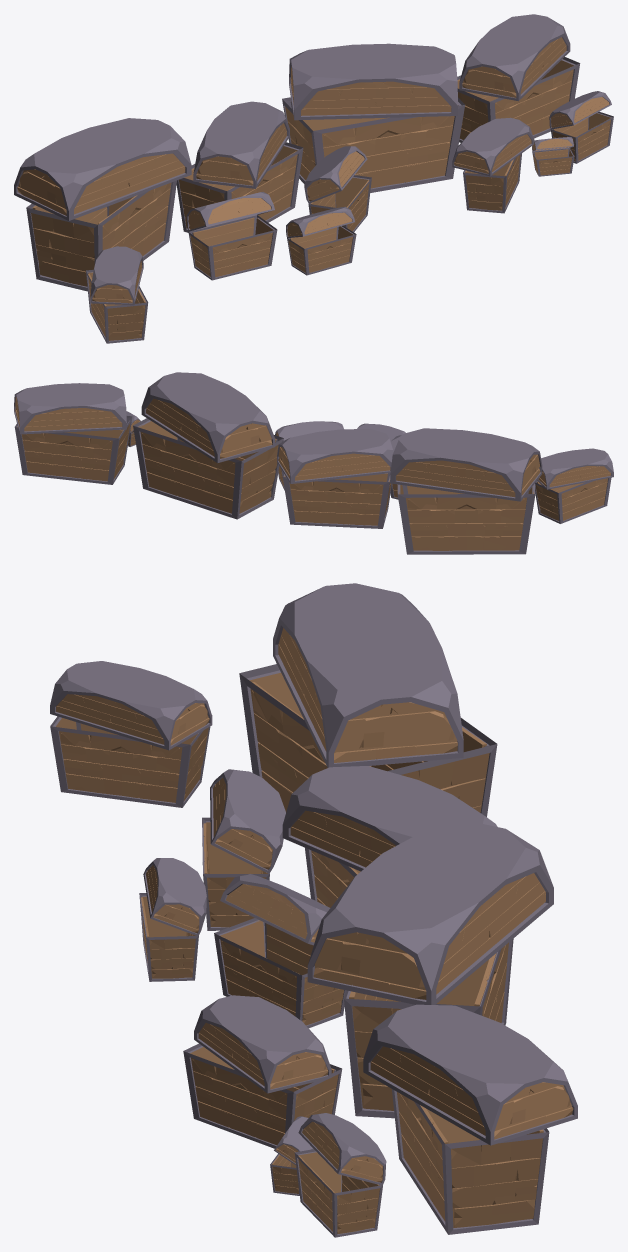
Rendered from CHEST.fbx.
3 renders of one model, top to bottom at view 1: azimuth 30°, elevation 25°; view 2: azimuth 150°, elevation 25°; view 3: azimuth 270°, elevation 25°, orthographic. The views are drawn at different scales.
Parts seen in each view (by area): view 1: Cube.056; view 2: Cube.056; view 3: Cube.056.
Boxes of the visible parts, bbox=[...] form: Cube.056: bbox=[14, 14, 613, 343]; Cube.056: bbox=[14, 372, 613, 554]; Cube.056: bbox=[50, 583, 577, 1237].
Size of the model in its own units: 1674 by 307 by 764.
